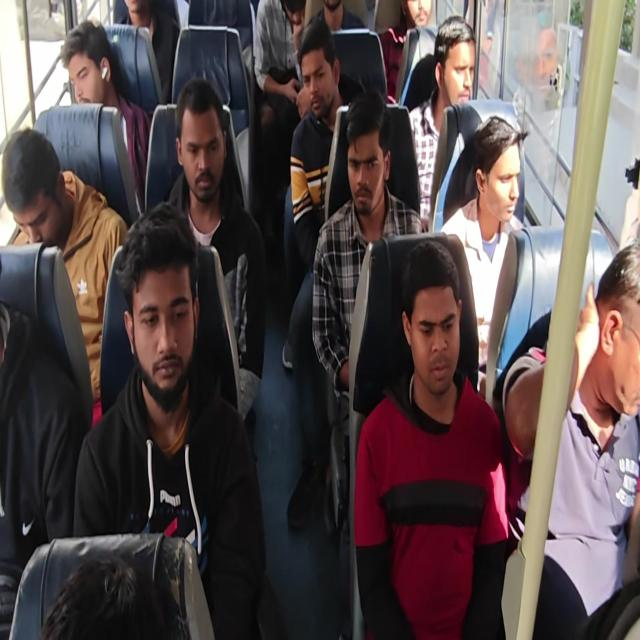person: (119, 230, 200, 380), (578, 270, 640, 412), (6, 134, 71, 250), (408, 269, 468, 389), (473, 128, 523, 225), (177, 94, 220, 192), (348, 118, 384, 211), (62, 31, 108, 102), (433, 40, 475, 112), (299, 42, 339, 108), (100, 0, 162, 24)
